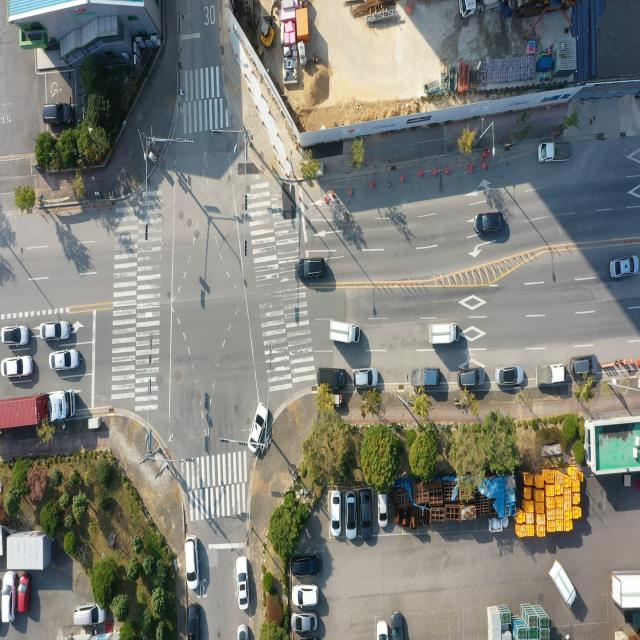car: (248, 402, 268, 452), (43, 102, 76, 127), (72, 606, 106, 630), (318, 366, 349, 390), (184, 537, 198, 590), (1, 356, 32, 379), (298, 258, 327, 282), (292, 556, 321, 579), (496, 364, 524, 387), (3, 573, 15, 626), (237, 558, 249, 610), (571, 354, 598, 377), (476, 212, 504, 234), (359, 491, 372, 538), (612, 258, 639, 280), (1, 324, 28, 346), (461, 366, 488, 388), (52, 350, 80, 371), (40, 320, 69, 340), (292, 586, 318, 608), (352, 369, 378, 390), (346, 493, 358, 538), (292, 616, 317, 636), (19, 576, 32, 614), (332, 492, 342, 538), (186, 603, 198, 640), (379, 493, 389, 528), (392, 614, 403, 640), (378, 622, 391, 640), (238, 624, 249, 640)
large_truck: (0, 390, 74, 432)
medium_truck: (611, 571, 640, 610), (458, 0, 493, 21)
small_truck: (550, 560, 576, 607), (331, 321, 362, 347), (428, 322, 460, 346), (537, 362, 569, 386), (540, 141, 572, 164), (410, 367, 440, 390)
